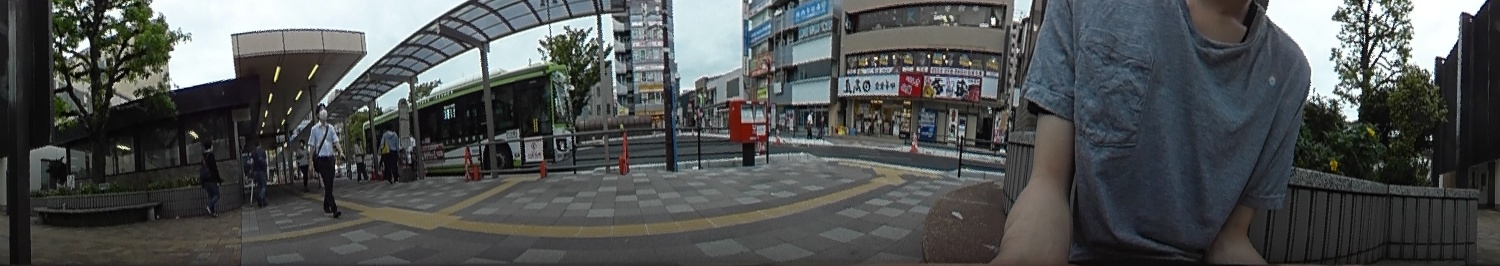difficult_person: (377, 121, 397, 180), (295, 139, 310, 187), (352, 137, 366, 178)
person: (309, 102, 340, 219), (196, 137, 220, 218), (250, 139, 268, 207)
